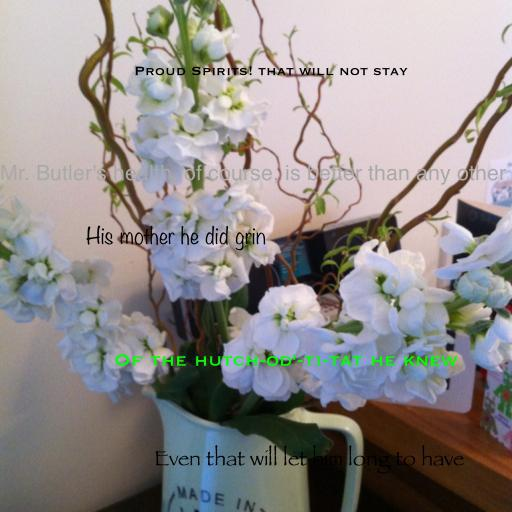Copperplate: (114, 354, 458, 366), (134, 66, 408, 76)
Noteworthy: (86, 225, 266, 251)
Papyrus: (154, 445, 464, 474)
SF Pro: (0, 164, 506, 185)
